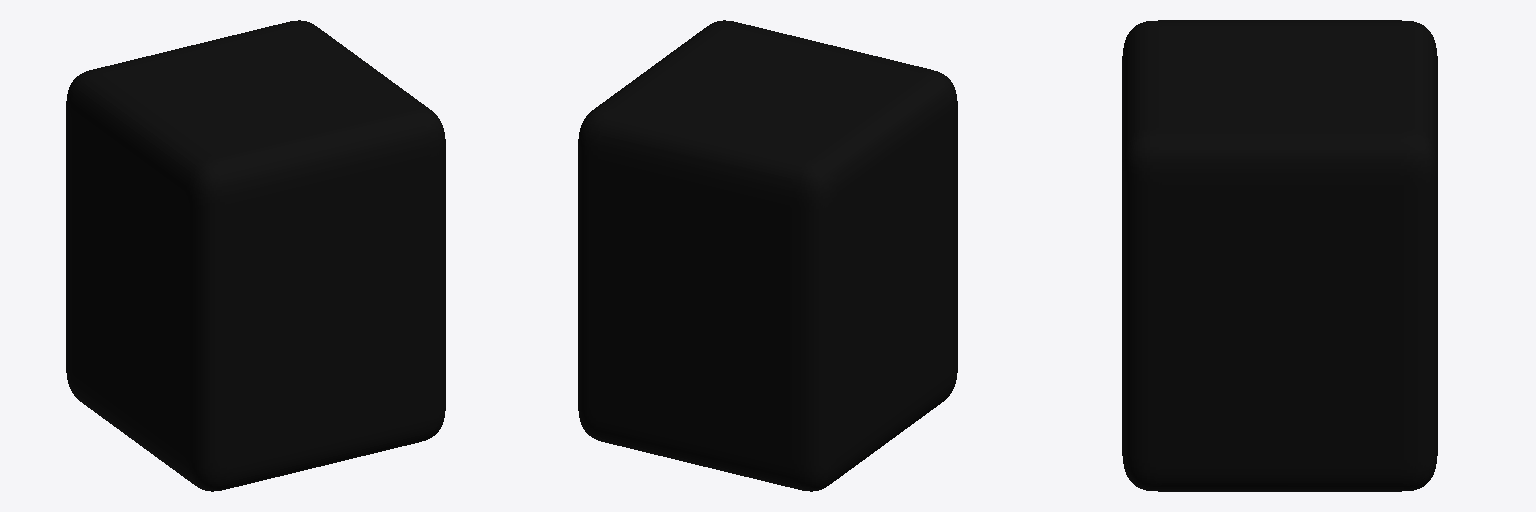
robot.urdf — block:
<robot name="block">
  <link name="block_base_link">
    <contact>
      <lateral_friction value="0.2"/>
      <rolling_friction value="0.001"/>
      <contact_cfm value="0.0"/>
      <contact_erp value="1.0"/>
    </contact>
    <inertial>
      <origin rpy="0 0 0" xyz="0 0 0"/>
      <mass value="0.05"/>
      <inertia ixx="0" ixy="0" ixz="0" iyy="0" iyz="0" izz="0"/>
    </inertial>
    <visual>
      <origin rpy="0 0 0" xyz="0 0 0"/>
      <geometry>
        <mesh filename="clevr_cube22.obj" scale="1 1 1"/>
      </geometry>
      <material name="tray_material">
        <color rgba="0.1 0.1 0.1 1"/>
      </material>
    </visual>
    <collision>
      <origin rpy="0 0 0" xyz="0 0 0"/>
      <geometry>
        <mesh filename="clevr_cube22.obj" scale="1 1 1"/>
      </geometry>
    </collision>
  </link>
</robot>

--- What the picture shows (computed from the rendered views, not written in the file) ---
The picture shows the robot from 3 angles, left to right: view 1: azimuth 30°, elevation 25°; view 2: azimuth 150°, elevation 25°; view 3: azimuth 270°, elevation 25°; orthographic projection.
Model block with 1 links and 0 joints (none), rooted at block_base_link, posed all joints at 0.
Links seen in each view (by area): view 1: block_base_link; view 2: block_base_link; view 3: block_base_link.
Boxes of the visible links, <box> form: block_base_link: <box>66,20,445,491</box>; block_base_link: <box>578,20,957,491</box>; block_base_link: <box>1122,20,1437,491</box>.
Size in the robot's own frame: 0.04 by 0.04 by 0.05 metres.
Meshes: 1 distinct files referenced, 1 mesh visuals loaded (1 OBJ).